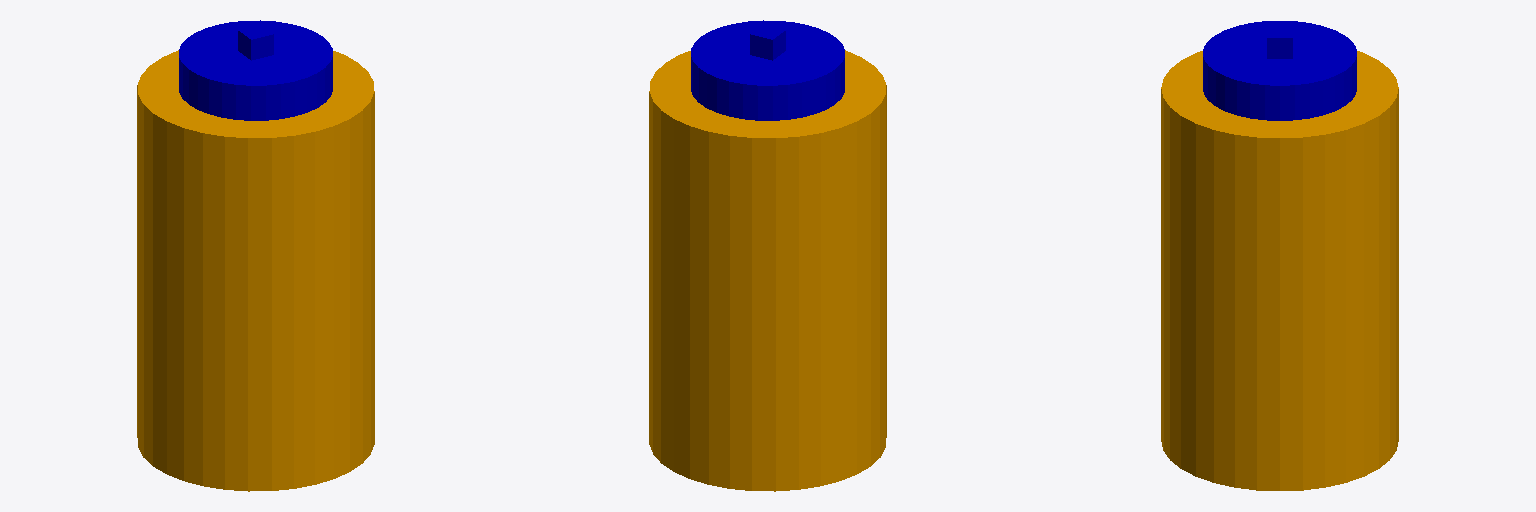
The robot description file, URDF, robot "hdetect":
<?xml version="1.0"?>
<robot name="hdetect">

  <material name="blue">
    <color rgba="0 0 0.8 1"/>
  </material>
  <material name="black">
    <color rgba="0 0 0 1"/>
  </material>
  <material name="white">
    <color rgba="1 1 1 1"/>
  </material>


  <link name="base_link">
    <visual>
      <origin xyz="1.5 -2.0 0" rpy="0.0 0.0 0.0"/>
      <geometry>
        <cylinder length="0.75450" radius="0.23"/>
      </geometry>

    </visual>
    <inertial>
      <origin xyz="1.5 -2.0 0" rpy="0.0 0.0 0.0"/>
      <mass value="1.0"/>
      <inertia ixx="1.0" ixy="0.0" ixz="0.0" iyy="1.0" iyz="0.0" izz="1.0"/>
    </inertial>
    <collision>
      <origin xyz="1.5 -2.0 0.0" rpy="0.0 0.0 0.0"/>
      <geometry>
        <cylinder length="0.75450" radius="0.23"/>
      </geometry>

    </collision>

  </link>
  <link name="on_top">
    <visual>
      <origin  xyz="0 -2.0 0.33" rpy="0.0 0.0 0.0"/>
      <geometry>
      <cylinder length="0.08154" radius="0.15"/>
      </geometry>
      <material name="blue"/>
    </visual>
    <inertial>
       <origin  xyz="0 -2.0 0.33" rpy="0.0 0.0 0.0"/>
      <mass value="1.0"/>
      <inertia ixx="1.0" ixy="0.0" ixz="0.0" iyy="1.0" iyz="0.0" izz="1.0"/>
    </inertial>
    <collision>
       <origin  xyz="0 -2.0 0.33" rpy="0.0 0.0 0.0"/>
      <geometry>
        <cylinder length="0.08154" radius="0.15"/>
      </geometry>
      <material name="blue"/>
    </collision>

  </link>

  <joint name="on_top_joint" type="fixed">
    <parent link="base_link"/>
    <child link="on_top"/>
    <origin xyz="1.5 0 0.08154"/>
  </joint>

  <link name="camera_link">
   <collision>
     <origin xyz="0 -2.0 0.1" rpy="0 0 0"/>
     <geometry>
   <box size="0.05 0.05 0.05"/>
     </geometry>
     <material name="blue"/>
   </collision>

   <visual>
     <origin xyz="0 -2.0 0.1" rpy="0 0 0"/>
     <geometry>
   <box size="0.05 0.05 0.05"/>
     </geometry>
     <material name="blue"/>
   </visual>

   <inertial>
     <mass value="1e-5" />
     <origin xyz="0 -2.0 0.1" rpy="0 0 0"/>
     <inertia ixx="1e-6" ixy="0" ixz="0" iyy="1e-6" iyz="0" izz="1e-6" />
   </inertial>
 </link>

 <joint name="camera_joint" type="fixed">
    <axis xyz="0 1 0" />
    <origin xyz="0 0 0.29" rpy="0 0 0"/>
    <parent link="on_top"/>
    <child link="camera_link"/>
  </joint>

  <!-- generate an optical frame http://www.ros.org/reps/rep-0103.html#suffix-frames
      so that ros and opencv can operate on the camera frame correctly -->
  <joint name="camera_optical_joint" type="fixed">
    <!-- these values have to be these values otherwise the gazebo camera image
        won't be aligned properly with the frame it is supposedly originating from -->
    <origin xyz="2 0 0" rpy="-1.5707 0 -1.5707"/>
    <parent link="camera_link"/>
    <child link="camera_link_optical"/>
  </joint>

  <link name="camera_link_optical">
  </link>




 <gazebo reference="camera_link">
    <sensor type="multicamera" name="stereo_camera">
      <update_rate>30.0</update_rate>
      <camera name="left">
	<pose>0 0 0.33 0 0 0</pose>
        <horizontal_fov>1.3962634</horizontal_fov>
        <image>
          <width>800</width>
          <height>800</height>
          <format>R8G8B8</format>
        </image>
        <clip>
           <near>0.02</near>
           <far>300</far>
        </clip>
        <noise>
          <type>gaussian</type>
          <mean>0.0</mean>
          <stddev>0.007</stddev>
        </noise>
      </camera>
      <camera name="right">
        <pose>0 0 0.33 0 0 0.33</pose>
        <horizontal_fov>1.3962634</horizontal_fov>
        <image>
          <width>800</width>
          <height>800</height>
          <format>R8G8B8</format>
        </image>
        <clip>
          <near>0.02</near>
          <far>300</far>
        </clip>
        <noise>
          <type>gaussian</type>
          <mean>0.0</mean>
          <stddev>0.007</stddev>
        </noise>
      </camera>
      <plugin name="stereo_camera_controller" filename="libgazebo_ros_multicamera.so">
        <alwaysOn>true</alwaysOn>
        <updateRate>0.0</updateRate>
        <cameraName>multisense_sl/camera</cameraName>
        <imageTopicName>image_raw</imageTopicName>
        <cameraInfoTopicName>camera_info</cameraInfoTopicName>
        <frameName>left_camera_optical_frame</frameName>


        <!--<rightFrameName>right_camera_optical_frame</rightFrameName>-->
        <hackBaseline>0.447</hackBaseline>
        <distortionK1>0.0</distortionK1>
        <distortionK2>0.0</distortionK2>
        <distortionK3>0.0</distortionK3>
        <distortionT1>0.0</distortionT1>
        <distortionT2>0.0</distortionT2>
      </plugin>
    </sensor>
  </gazebo>

</robot>

--- What the picture shows (computed from the rendered views, not written in the file) ---
3 views of the same robot in one strip: view 1: azimuth 30°, elevation 25°; view 2: azimuth 150°, elevation 25°; view 3: azimuth 270°, elevation 25° (orthographic).
Model hdetect with 4 links and 3 joints (3 fixed), rooted at base_link, posed every joint at zero.
Links seen in each view (by area): view 1: base_link, on_top, camera_link; view 2: base_link, on_top, camera_link; view 3: base_link, on_top, camera_link.
Boxes of the visible links, bbox=[...] form: base_link: bbox=[137, 50, 374, 491]; on_top: bbox=[179, 20, 332, 120]; camera_link: bbox=[238, 25, 273, 60]; base_link: bbox=[649, 50, 886, 491]; on_top: bbox=[691, 20, 844, 120]; camera_link: bbox=[750, 25, 785, 60]; base_link: bbox=[1161, 51, 1398, 490]; on_top: bbox=[1203, 21, 1356, 120]; camera_link: bbox=[1267, 27, 1292, 58].
Size in the robot's own frame: 0.46 by 0.46 by 0.8738 metres.
Geometry: primitives only (box / cylinder / sphere), no mesh files.